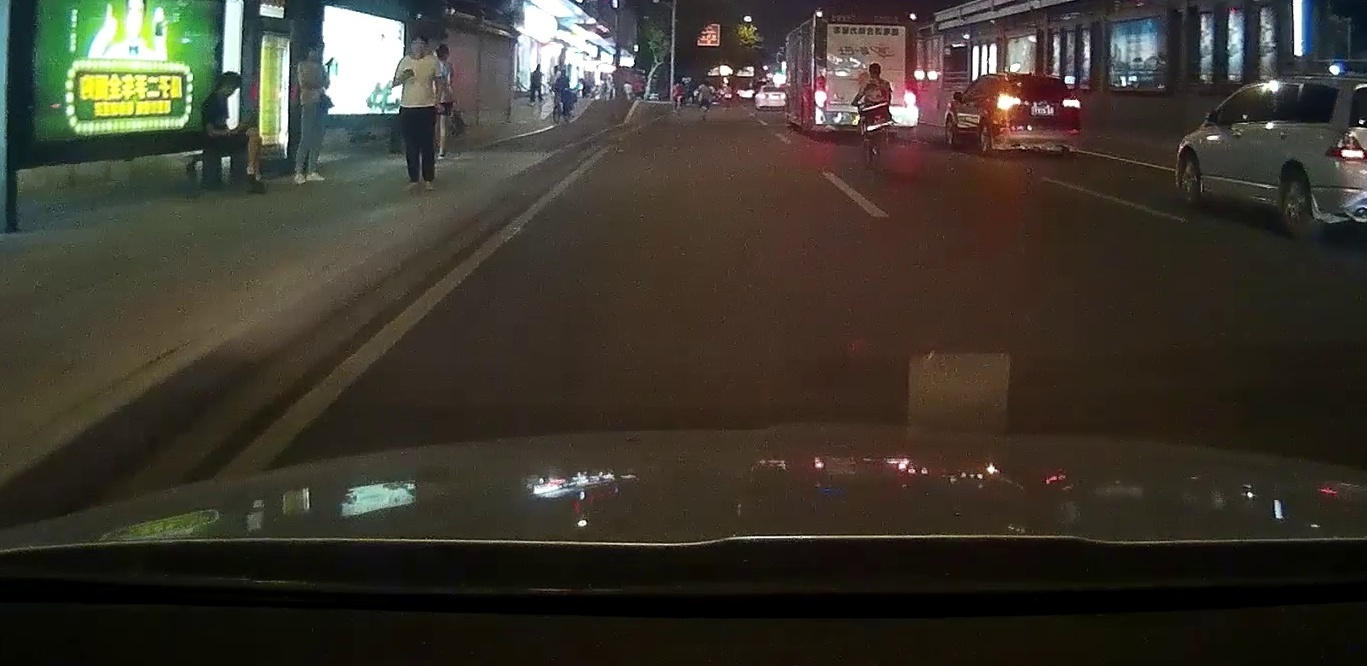L_light: (814, 76, 828, 107), (996, 93, 1021, 110)
R_light: (903, 79, 917, 108), (1061, 99, 1081, 109)
T_light: (857, 18, 874, 23), (1030, 77, 1049, 81)
night-left: (994, 72, 1083, 155)
night-no: (810, 7, 918, 139)
